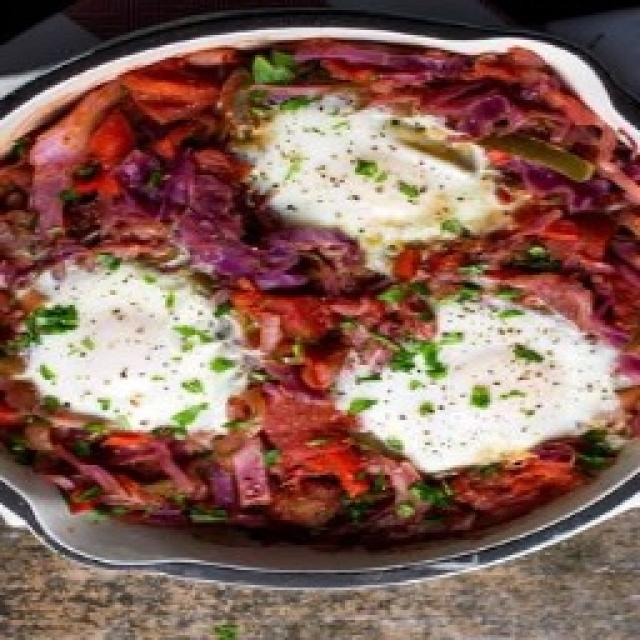Chakchouka: (0, 38, 640, 555)
